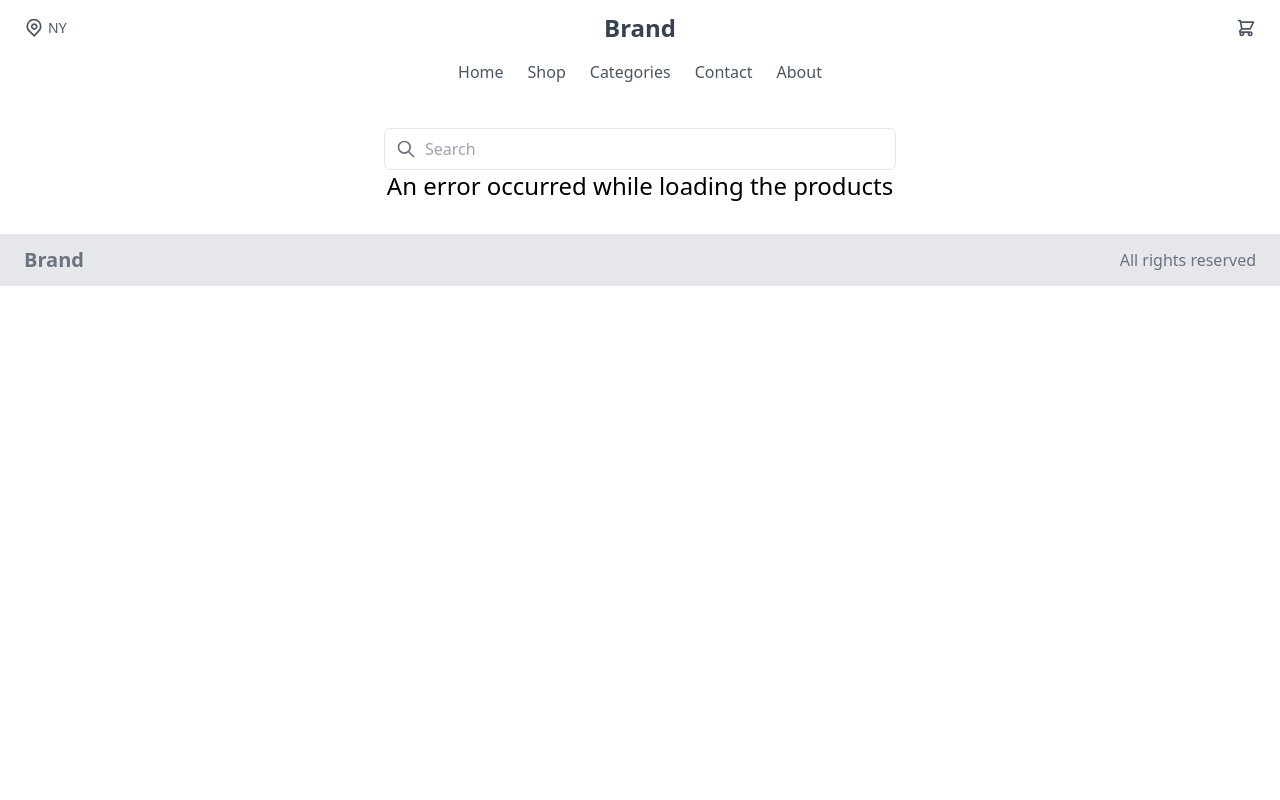
Test: Store › Store > Shopping Cart › should display "Is empty" message when there are no products
This screenshot has width=1280, height=800.
Click the button with test id "toggle-button": click(1246, 28) x1=1236 y1=18 x2=1256 y2=38
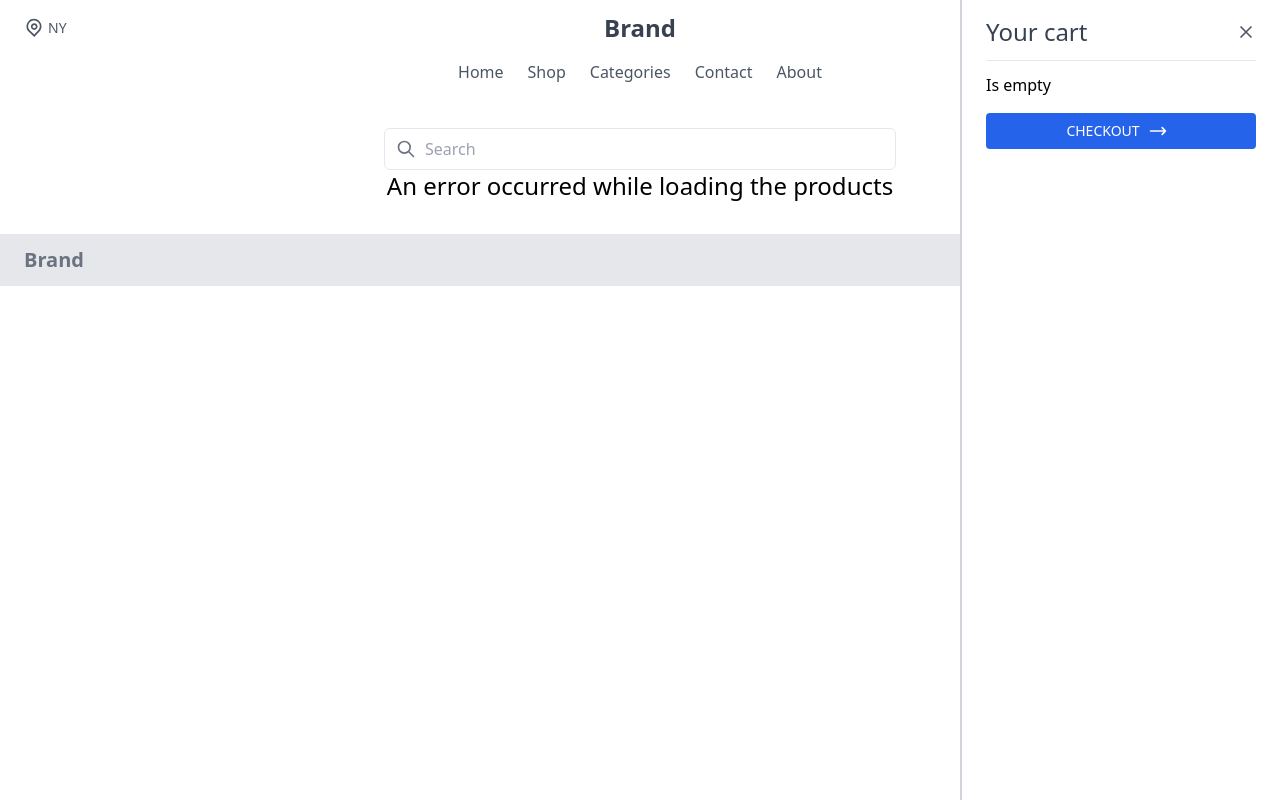
Expected: the heading "Is empty" is shown, x1=986 y1=74 x2=1051 y2=96
